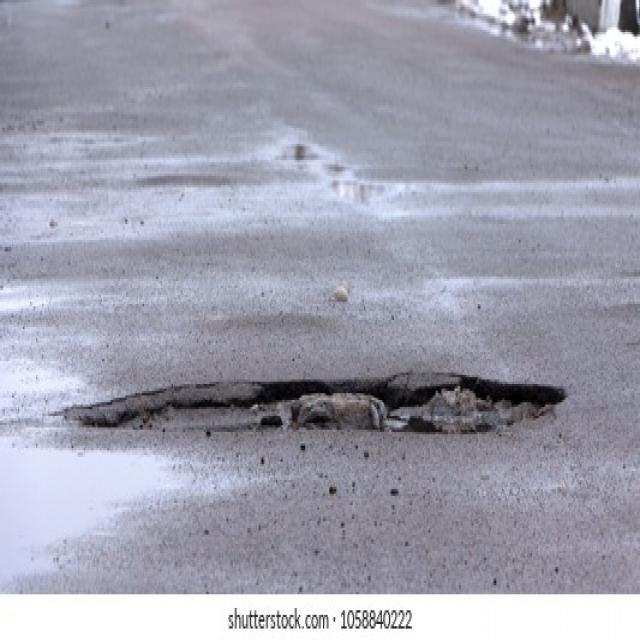Pothole: (55, 371, 567, 438)
